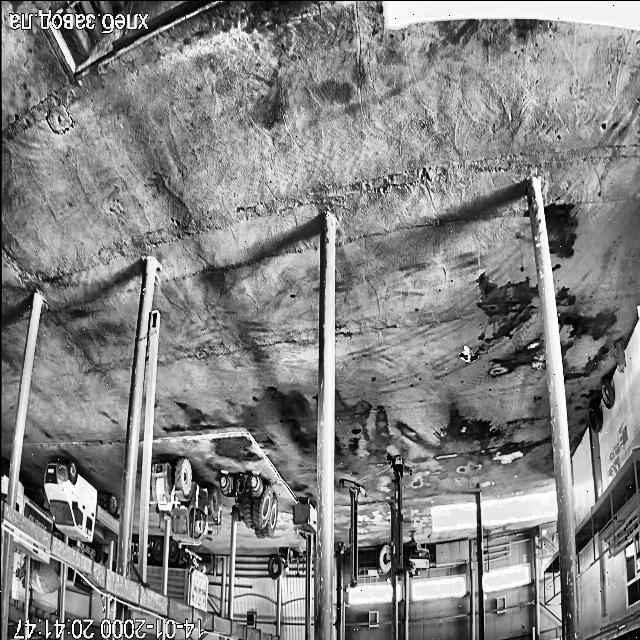car lift: (388, 455, 411, 574), (340, 479, 365, 587)
fire extinguisher: (616, 340, 624, 372)
tractor: (151, 458, 220, 546), (220, 475, 278, 538)
truck: (44, 460, 118, 540), (168, 540, 208, 612), (16, 482, 52, 532), (30, 558, 60, 594), (146, 538, 163, 592), (12, 538, 48, 562), (68, 540, 104, 563), (66, 567, 92, 595), (0, 461, 8, 500), (132, 543, 140, 563), (130, 570, 136, 580), (20, 570, 24, 581)
